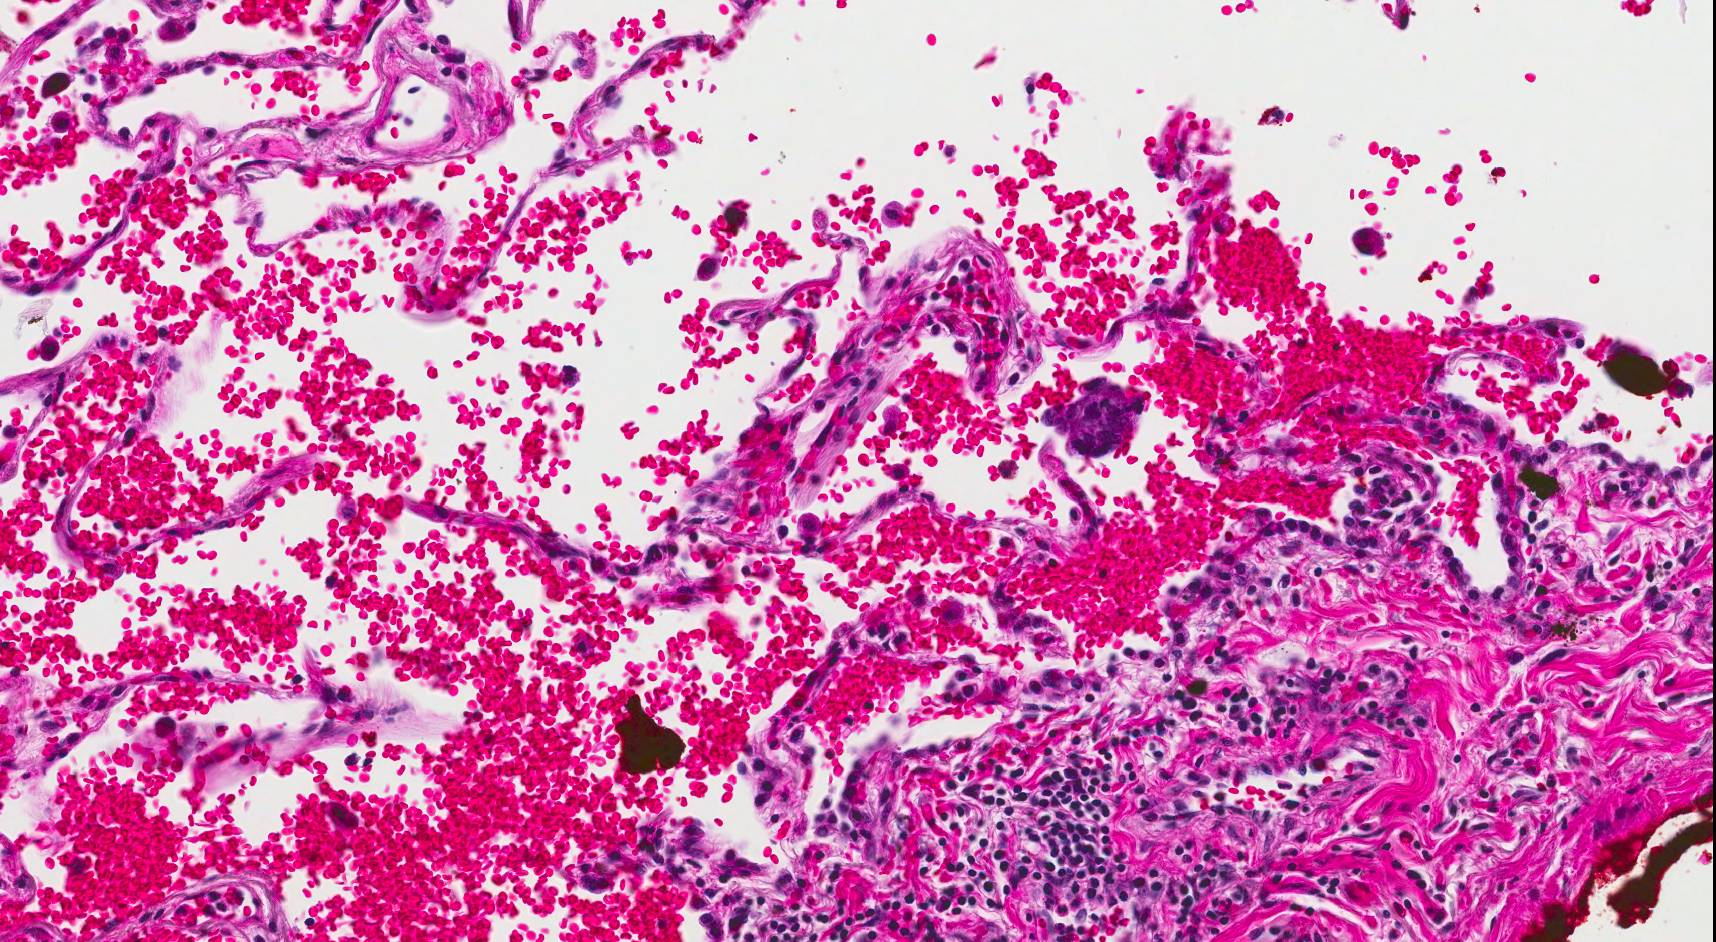stas: (1044, 373, 1145, 459)
